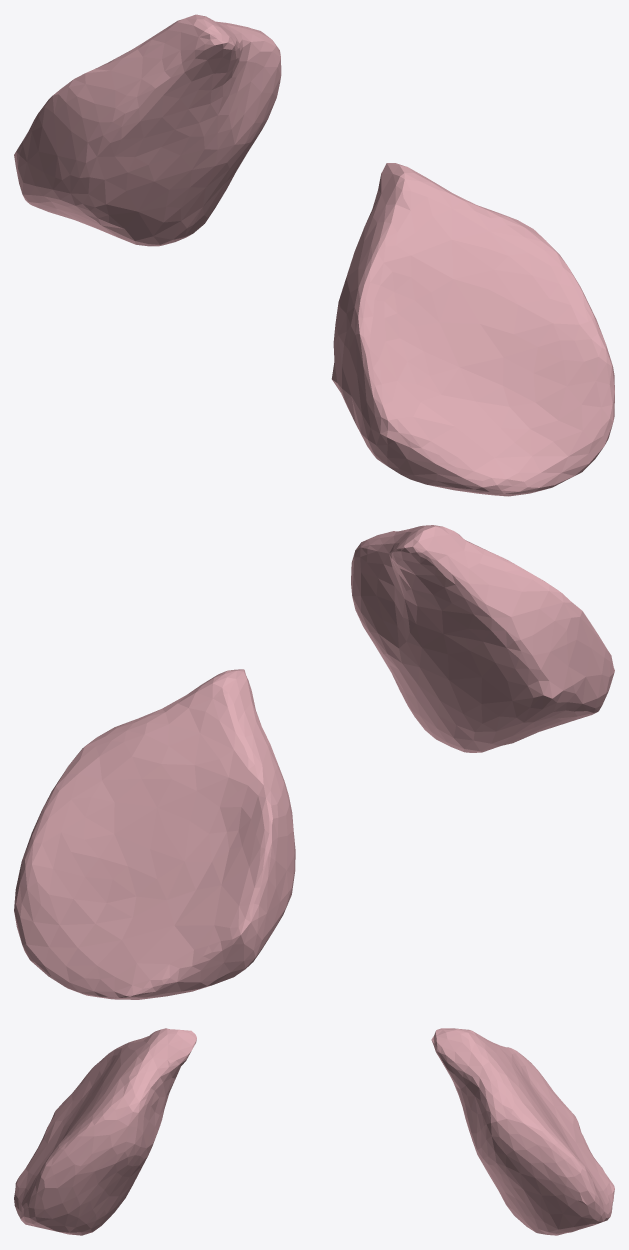
3 renders of one model, top to bottom at view 1: azimuth 30°, elevation 25°; view 2: azimuth 150°, elevation 25°; view 3: azimuth 270°, elevation 25°, orthographic. The views are drawn at different scales.
Parts seen in each view (by area): view 1: 1020.obj; view 2: 1020.obj; view 3: 1020.obj.
Boxes of the visible parts, left/top/right/bottom form: 1020.obj: left=14, top=14, right=614, bottom=496; 1020.obj: left=14, top=525, right=614, bottom=999; 1020.obj: left=14, top=1028, right=614, bottom=1235.
Bounding box in the file's own units: 1212 × 1354 × 3920.
